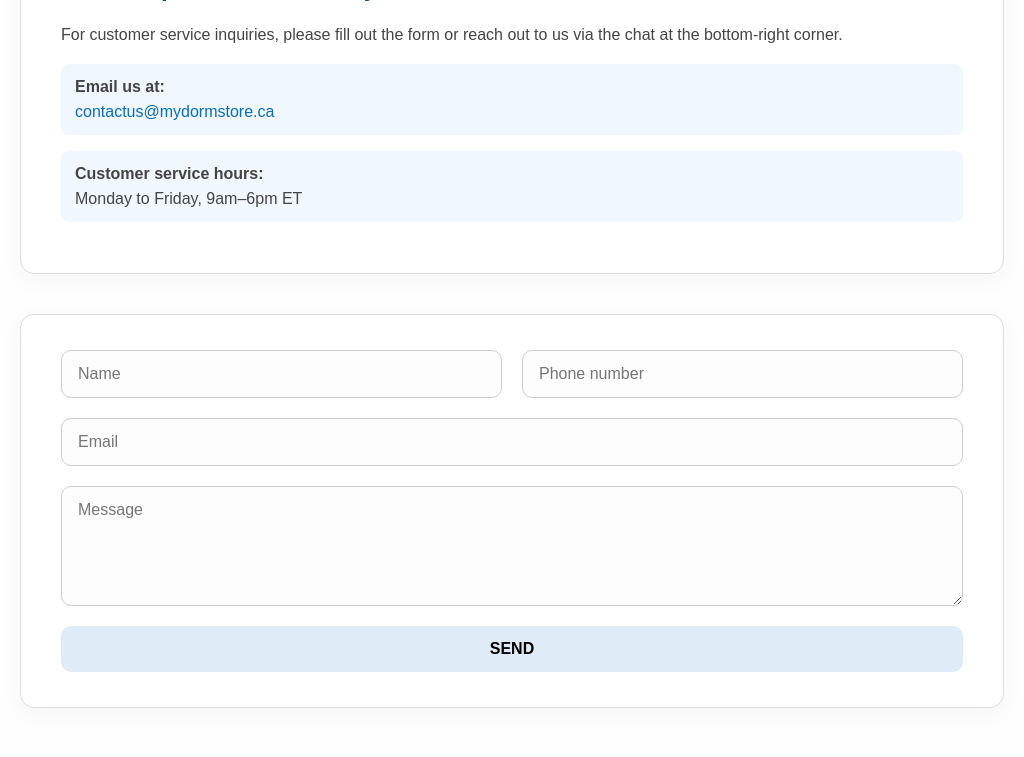
Test: ContactUs › displays error message when response is not ok
This screenshot has width=1024, height=757.
(page scrolled)
In the field with placeholder "Name": (282, 374) [61,350,502,398], type "Judy"
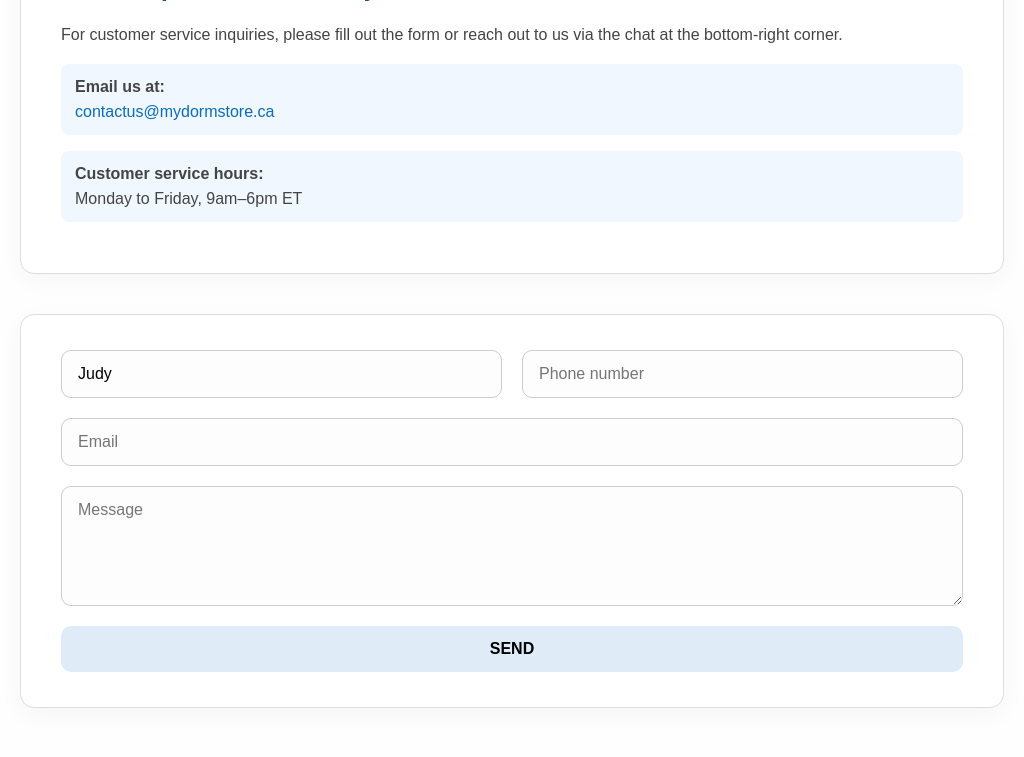
In the field with placeholder "Email": (512, 442) [61,418,963,466], type "judy@example.com"
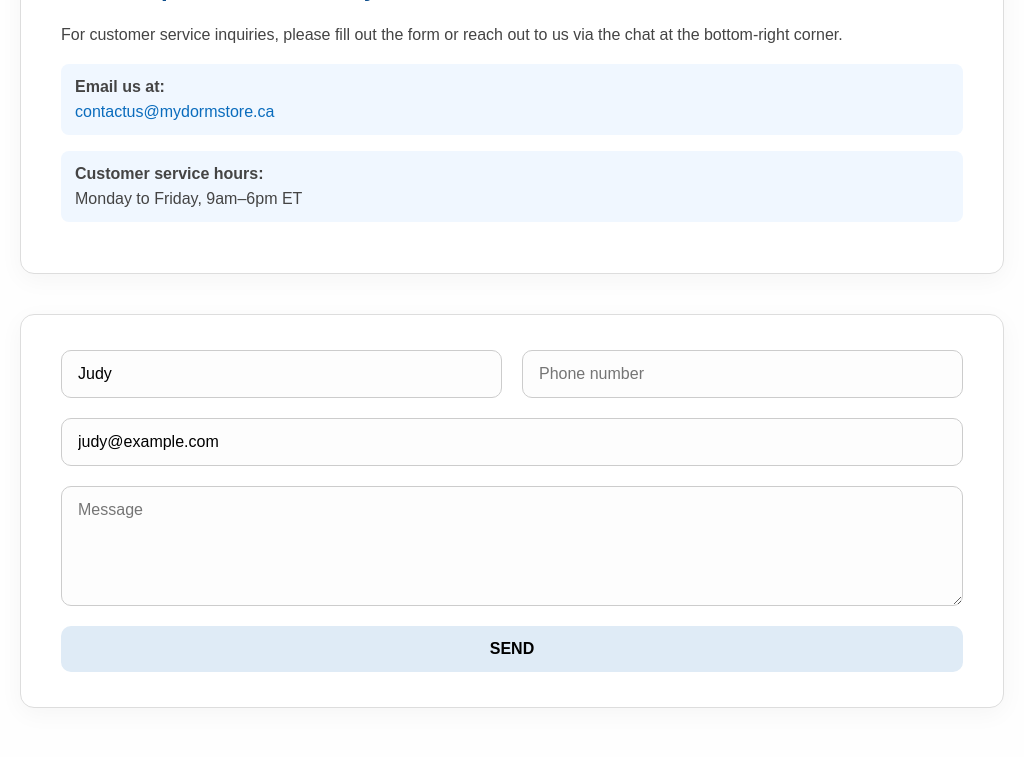
In the text box with placeholder "Message": (512, 546) [61,486,963,606], type "Test message content."
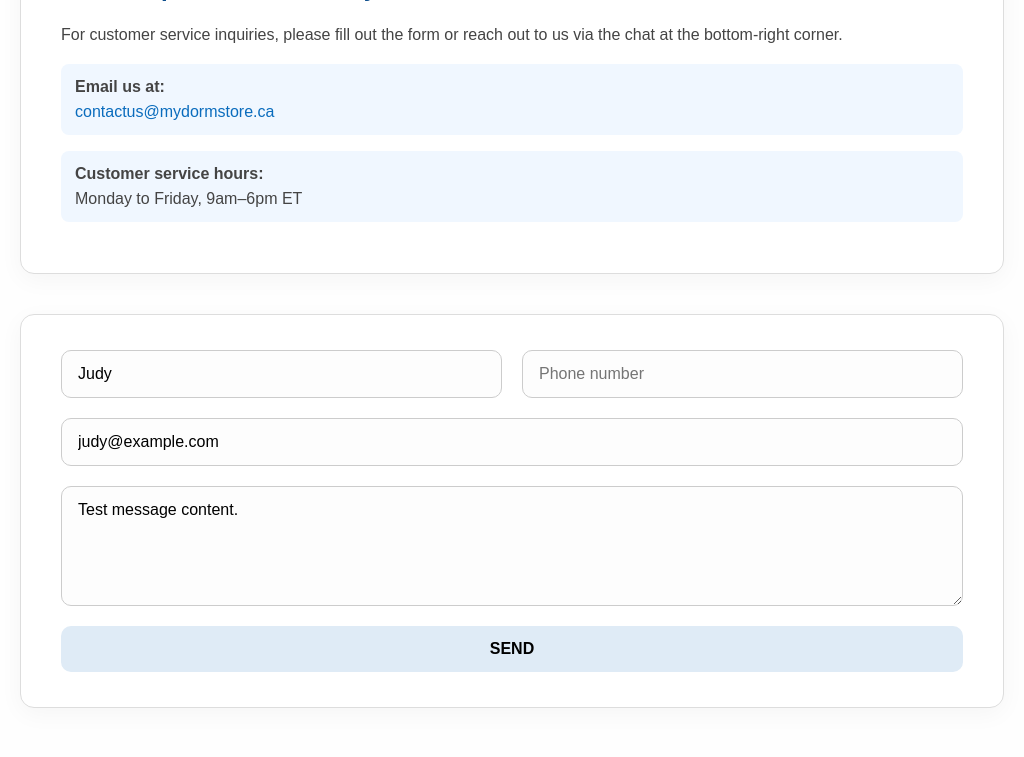
Click the button "SEND": (512, 649) [61,626,963,672]
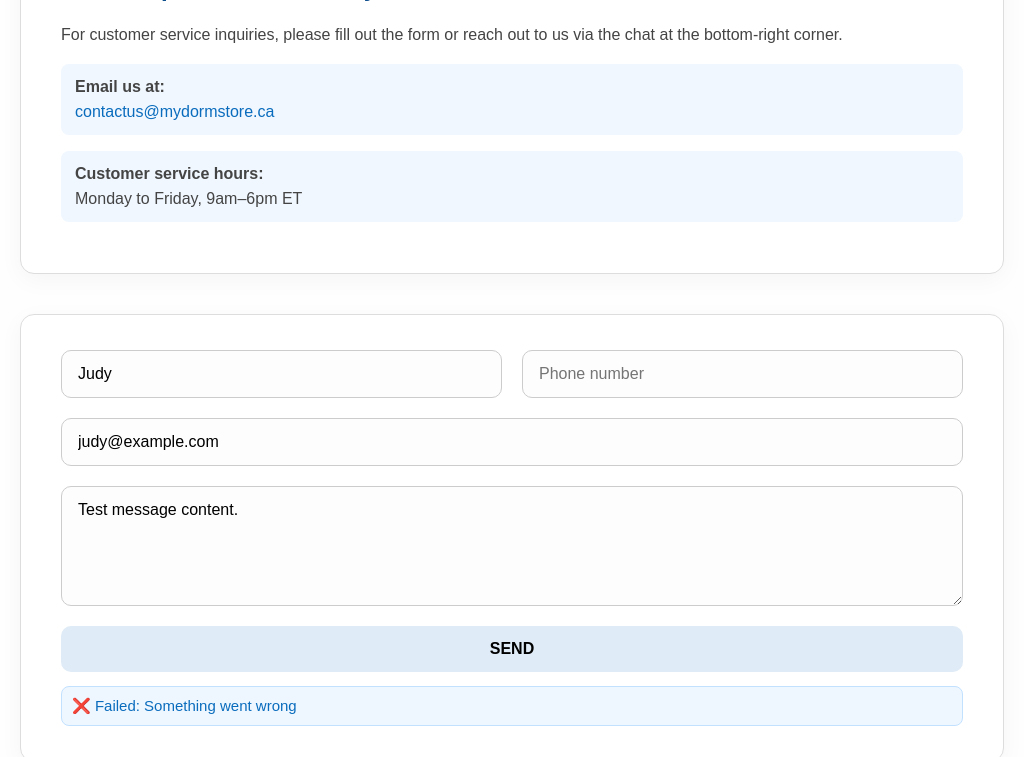
Check: the text "❌ Failed: Something went wrong" is shown, box [61,686,963,726]
